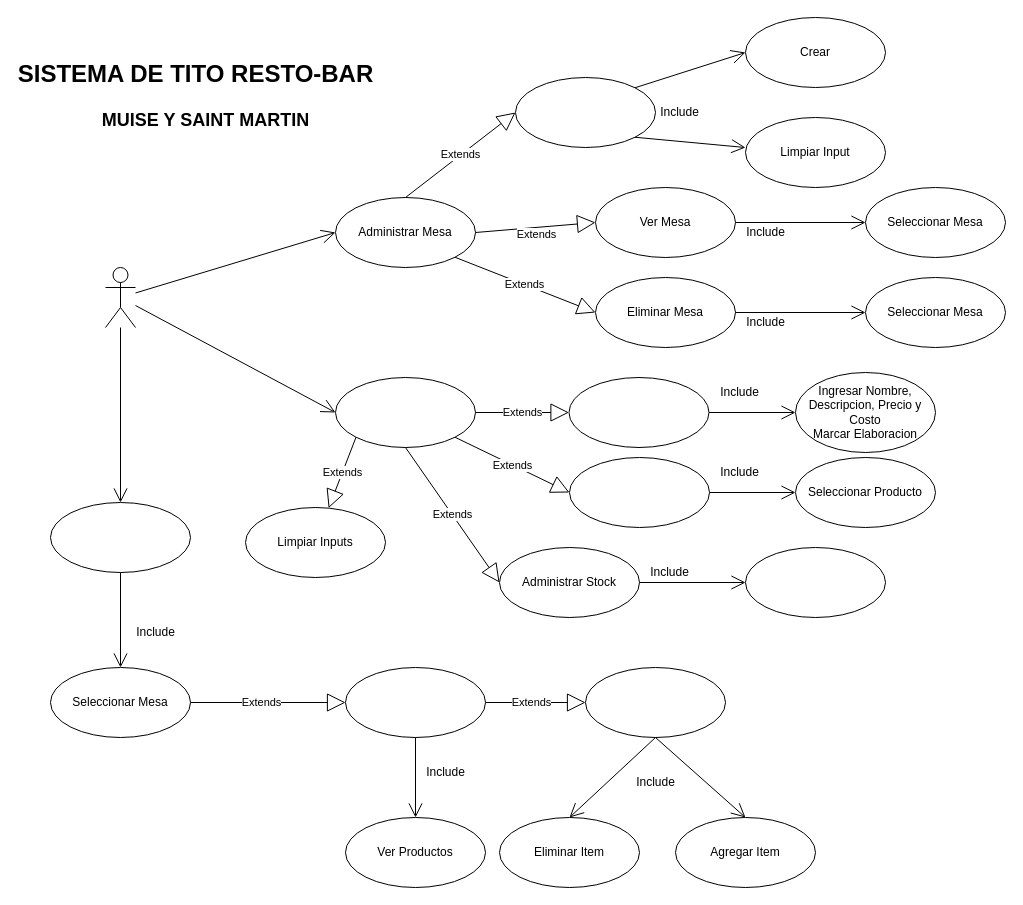
Some shapes in this 1023 by 905 pixel diagram are drawn without their labels. Here are the shapes that lost their labels. From the top down, the box of each, then its label:
(514, 76, 656, 148): Agregar Mesa
(334, 376, 476, 448): Administrar Producto
(568, 376, 709, 448): Guardar Producto
(568, 456, 710, 528): Eliminar Producto
(50, 502, 190, 572): Administrar Pedido
(744, 546, 886, 618): Controlar Stock Producto No Elaborado
(344, 666, 486, 738): Ver Pedido
(584, 666, 726, 738): Modificar Pedido
